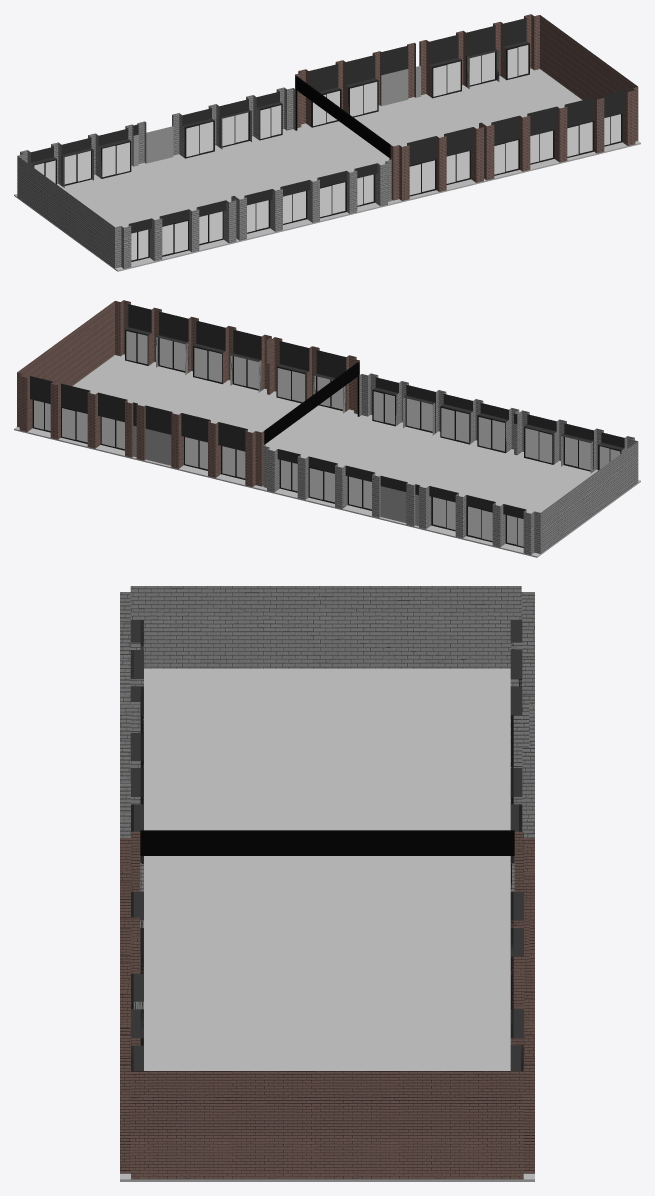
File: MSH_Piso_13.FBX
3 renders of one model, top to bottom at view 1: azimuth 30°, elevation 25°; view 2: azimuth 150°, elevation 25°; view 3: azimuth 270°, elevation 25°, orthographic. The views are drawn at different scales.
Parts seen in each view (by area): view 1: MSH_Piso_13; view 2: MSH_Piso_13; view 3: MSH_Piso_13.
Boxes of the visible parts, x1,y1,x2,y2 form: MSH_Piso_13: (14,14,640,271); MSH_Piso_13: (14,300,640,557); MSH_Piso_13: (120,586,534,1181).
Bounding box in the file's own units: 4244 × 430 × 1458.
